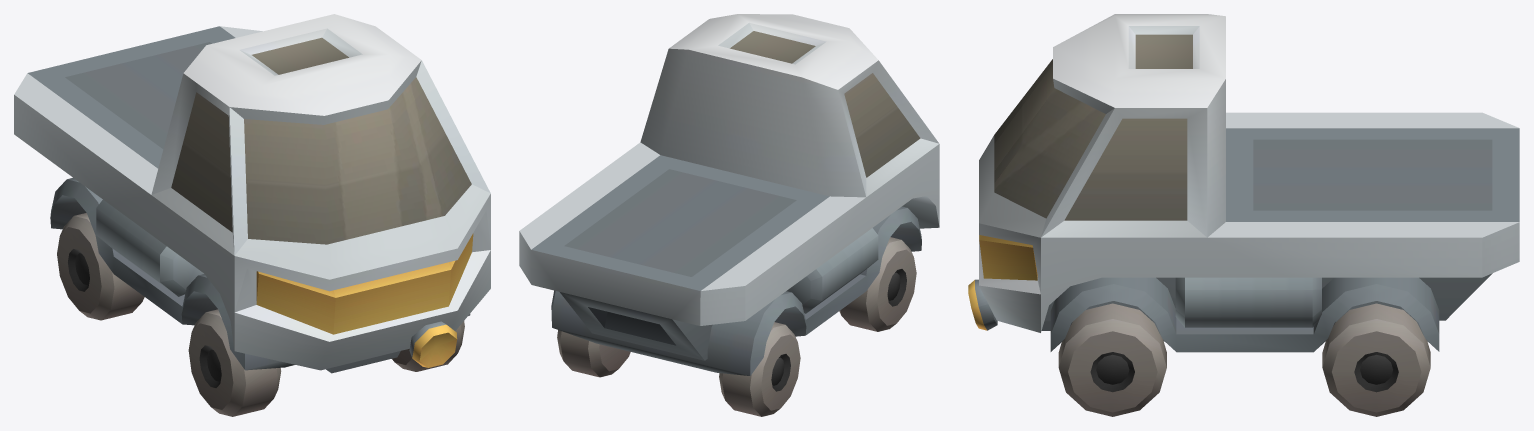
The model's file is spacetruck.gltf.
3 views of the same model, side by side, from view 1: azimuth 30°, elevation 25°; view 2: azimuth 150°, elevation 25°; view 3: azimuth 270°, elevation 25° (orthographic). The views are drawn at different scales.
Parts seen in each view (by area): view 1: spacetruck, spacetruck_wheel_front_right, spacetruck_wheel_rear_right, spacetruck_wheel_front_left; view 2: spacetruck, spacetruck_wheel_rear_right, spacetruck_wheel_front_right, spacetruck_wheel_rear_left; view 3: spacetruck, spacetruck_wheel_front_left, spacetruck_wheel_rear_left.
Part boxes in pixels (x1,y1,x2,y2): spacetruck: [14, 14, 490, 373]; spacetruck_wheel_front_right: [188, 309, 281, 416]; spacetruck_wheel_rear_right: [57, 213, 144, 320]; spacetruck_wheel_front_left: [392, 321, 464, 371]; spacetruck: [519, 14, 939, 375]; spacetruck_wheel_rear_right: [719, 322, 800, 416]; spacetruck_wheel_front_right: [839, 237, 916, 331]; spacetruck_wheel_rear_left: [557, 330, 630, 377]; spacetruck: [968, 14, 1519, 352]; spacetruck_wheel_front_left: [1058, 303, 1166, 416]; spacetruck_wheel_rear_left: [1322, 303, 1430, 416].
Size of the model in its own units: 0.4895 by 0.5662 by 0.8933.
Materials: 1 (1 with a texture image).
